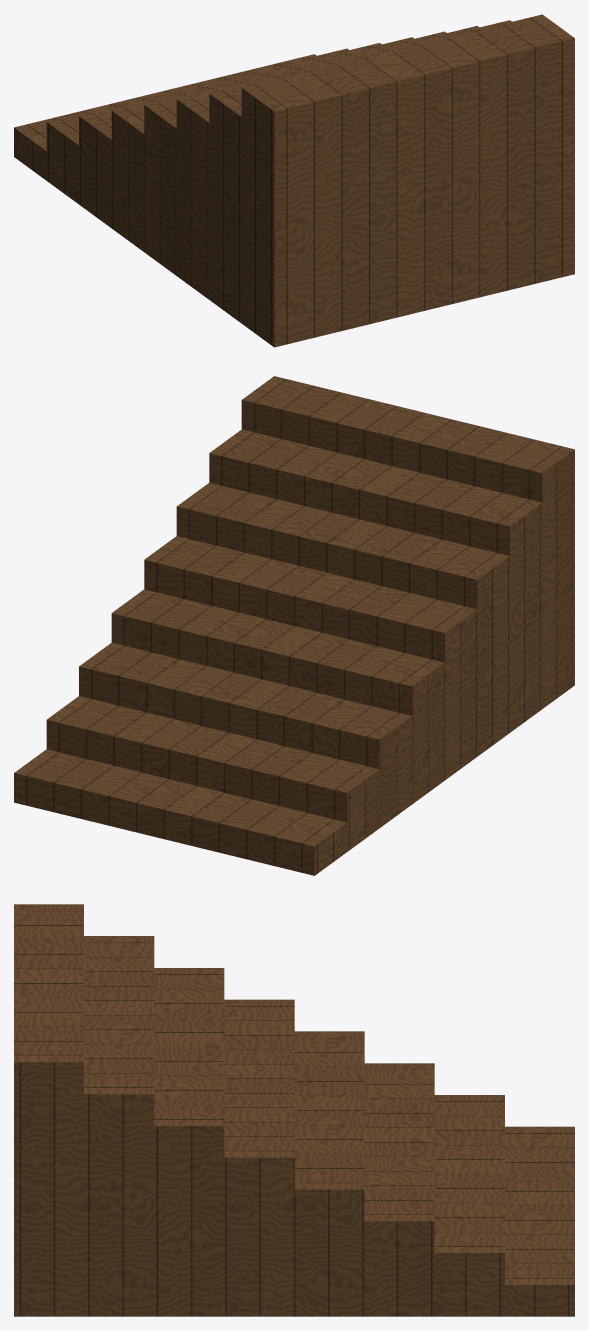
Rendered from ramp_2x3x1p5m.glb.
The picture shows the model from 3 angles, top to bottom: view 1: azimuth 30°, elevation 25°; view 2: azimuth 150°, elevation 25°; view 3: azimuth 270°, elevation 25°; orthographic projection. The views are drawn at different scales.
Parts seen in each view (by area): view 1: ramp_2x3x1p5m_tread_08, ramp_2x3x1p5m_tread_01, ramp_2x3x1p5m_tread_02, ramp_2x3x1p5m_tread_03, ramp_2x3x1p5m_tread_04, ramp_2x3x1p5m_tread_05, ramp_2x3x1p5m_tread_06, ramp_2x3x1p5m_tread_07; view 2: ramp_2x3x1p5m_tread_01, ramp_2x3x1p5m_tread_02, ramp_2x3x1p5m_tread_03, ramp_2x3x1p5m_tread_04, ramp_2x3x1p5m_tread_05, ramp_2x3x1p5m_tread_06, ramp_2x3x1p5m_tread_07, ramp_2x3x1p5m_tread_08; view 3: ramp_2x3x1p5m_tread_01, ramp_2x3x1p5m_tread_02, ramp_2x3x1p5m_tread_03, ramp_2x3x1p5m_tread_04, ramp_2x3x1p5m_tread_05, ramp_2x3x1p5m_tread_06, ramp_2x3x1p5m_tread_07, ramp_2x3x1p5m_tread_08.
Part boxes in pixels (<box>): ramp_2x3x1p5m_tread_08: <box>241,14,574,140</box>; ramp_2x3x1p5m_tread_01: <box>14,54,574,347</box>; ramp_2x3x1p5m_tread_02: <box>46,48,574,317</box>; ramp_2x3x1p5m_tread_03: <box>79,43,574,288</box>; ramp_2x3x1p5m_tread_04: <box>111,37,574,258</box>; ramp_2x3x1p5m_tread_05: <box>144,31,574,229</box>; ramp_2x3x1p5m_tread_06: <box>176,26,574,199</box>; ramp_2x3x1p5m_tread_07: <box>209,20,574,170</box>; ramp_2x3x1p5m_tread_01: <box>14,656,574,875</box>; ramp_2x3x1p5m_tread_02: <box>46,626,574,822</box>; ramp_2x3x1p5m_tread_03: <box>79,597,574,769</box>; ramp_2x3x1p5m_tread_04: <box>111,567,574,715</box>; ramp_2x3x1p5m_tread_05: <box>144,536,574,662</box>; ramp_2x3x1p5m_tread_06: <box>176,482,574,609</box>; ramp_2x3x1p5m_tread_07: <box>209,429,574,555</box>; ramp_2x3x1p5m_tread_08: <box>241,376,574,502</box>; ramp_2x3x1p5m_tread_01: <box>14,1126,574,1316</box>; ramp_2x3x1p5m_tread_02: <box>14,1095,504,1284</box>; ramp_2x3x1p5m_tread_03: <box>14,1063,434,1252</box>; ramp_2x3x1p5m_tread_04: <box>14,1031,364,1221</box>; ramp_2x3x1p5m_tread_05: <box>14,999,294,1189</box>; ramp_2x3x1p5m_tread_06: <box>14,968,224,1157</box>; ramp_2x3x1p5m_tread_07: <box>14,936,154,1125</box>; ramp_2x3x1p5m_tread_08: <box>14,904,83,1094</box>.
Size of the model in its own units: 2 by 1.5 by 3.
Materials: 1 (1 with a texture image).
